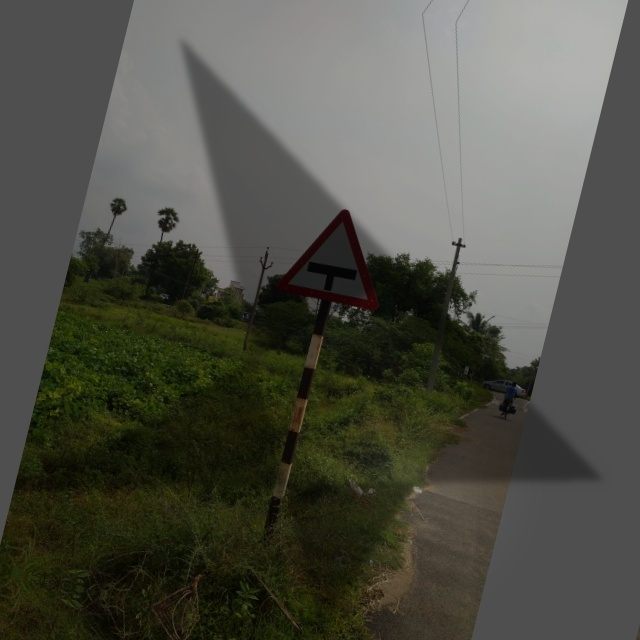T_Intersection: (261, 176, 405, 324)
